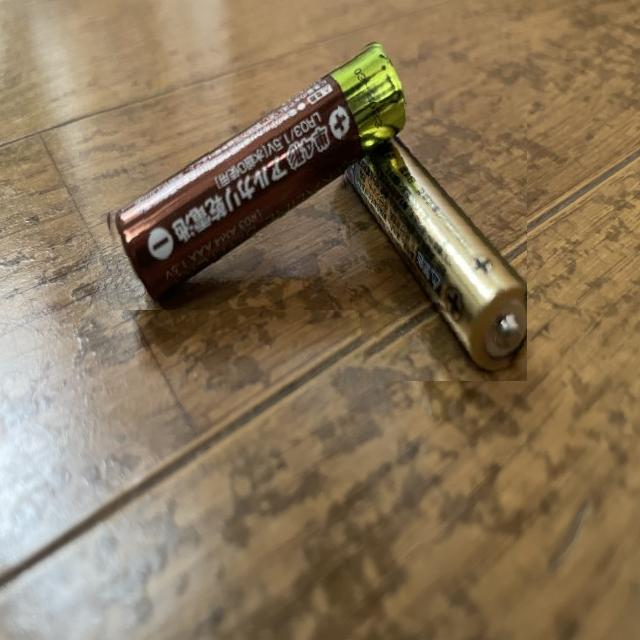battery: (102, 42, 418, 310), (337, 101, 527, 381)
